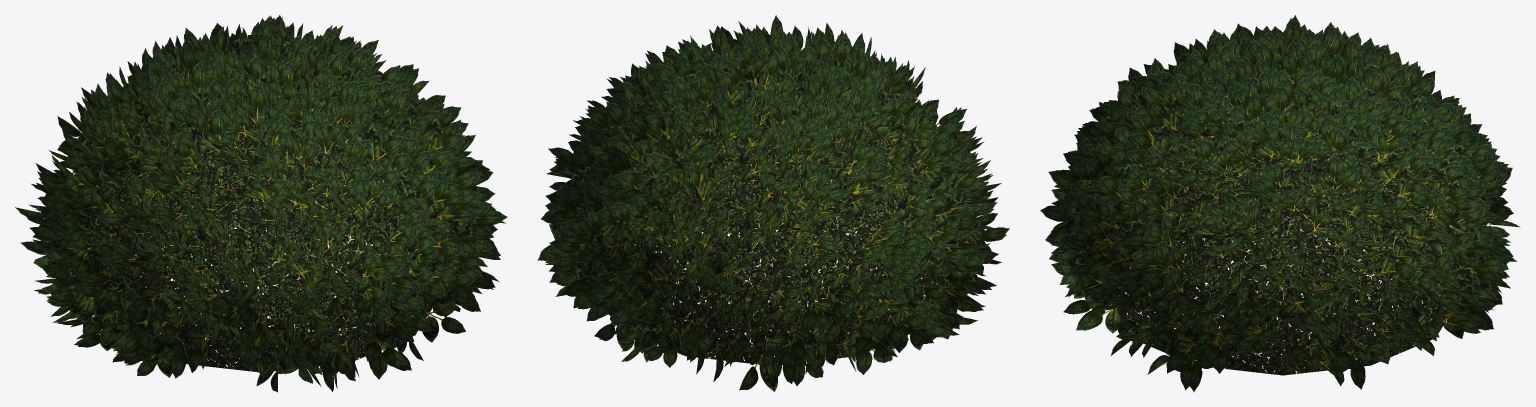
File: BurfordHollyGumdrop_RT.fbx
3 renders of one model, left to right at view 1: azimuth 30°, elevation 25°; view 2: azimuth 150°, elevation 25°; view 3: azimuth 270°, elevation 25°, orthographic. The views are drawn at different scales.
Parts seen in each view (by area): view 1: BurfordHollyGumdrop_RT_Leafs, BurfordHollyGumdrop_RT; view 2: BurfordHollyGumdrop_RT_Leafs, BurfordHollyGumdrop_RT; view 3: BurfordHollyGumdrop_RT_Leafs, BurfordHollyGumdrop_RT.
Part boxes in pixels (left/top/right/bottom): BurfordHollyGumdrop_RT_Leafs: left=15, top=15, right=507, bottom=392; BurfordHollyGumdrop_RT: left=74, top=68, right=443, bottom=372; BurfordHollyGumdrop_RT_Leafs: left=537, top=15, right=1009, bottom=391; BurfordHollyGumdrop_RT: left=600, top=79, right=962, bottom=364; BurfordHollyGumdrop_RT_Leafs: left=1040, top=15, right=1520, bottom=391; BurfordHollyGumdrop_RT: left=1096, top=107, right=1465, bottom=375.
Size of the model in its own units: 3.35 by 3.38 by 2.14.
